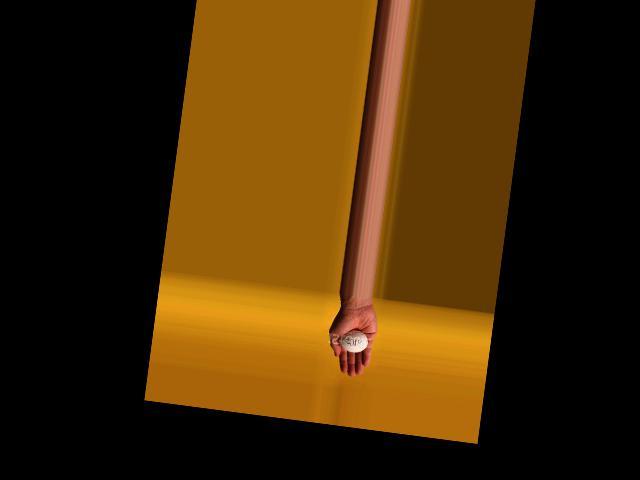egg: (338, 328, 369, 354)
